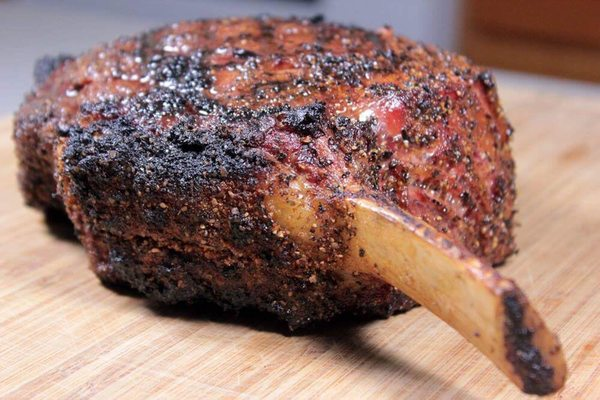sushi: (8, 14, 530, 340)
